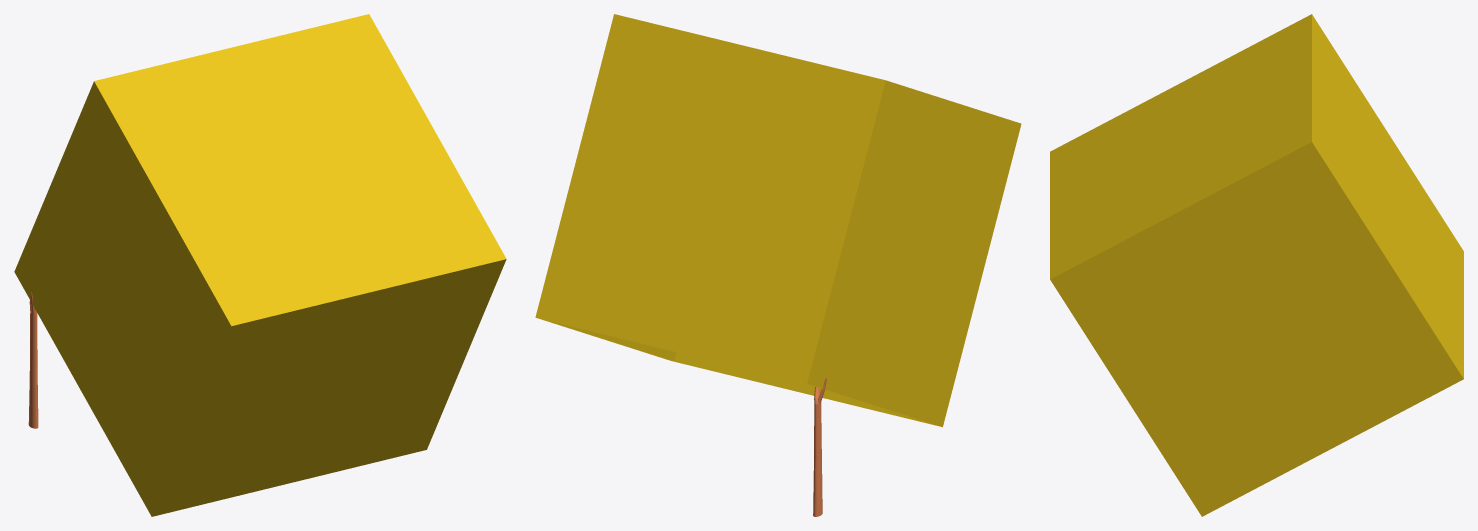
Rendered from Trap_1_BoxStick.fbx.
The picture shows the model from 3 angles, left to right: view 1: azimuth 30°, elevation 25°; view 2: azimuth 150°, elevation 25°; view 3: azimuth 270°, elevation 25°; orthographic projection. The views are drawn at different scales.
Parts seen in each view (by area): view 1: Box_Stick; view 2: Box_Stick; view 3: Box_Stick.
Boxes of the visible parts, <box> form: Box_Stick: <box>14,14,506,516</box>; Box_Stick: <box>535,14,1021,516</box>; Box_Stick: <box>1050,14,1463,516</box>.
Size of the model in its own units: 55.51 by 75.38 by 75.38.
